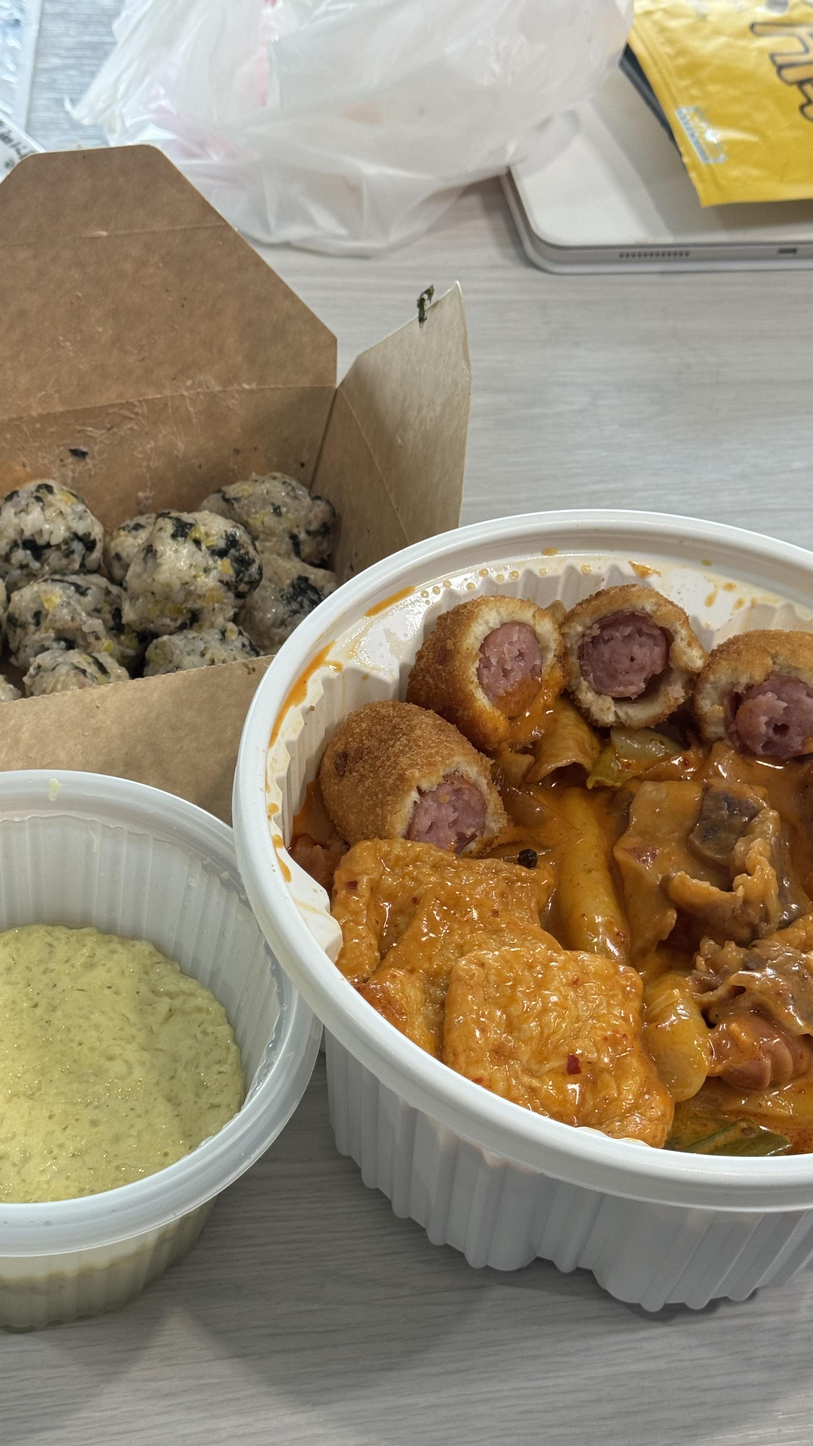Lunch Box: (233, 513, 813, 1310), (0, 146, 470, 822), (0, 770, 319, 1328)
